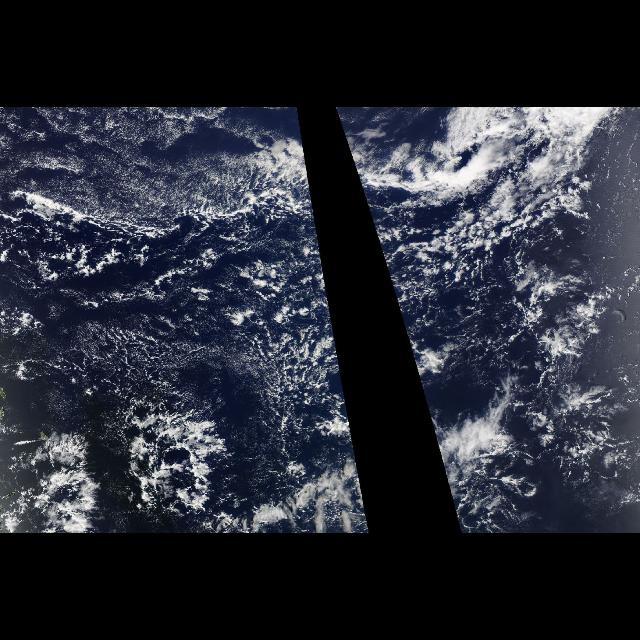Fish: (112, 397, 246, 533), (6, 426, 110, 534)
Gravel: (14, 207, 336, 455), (367, 208, 539, 336)
Sugar: (2, 110, 298, 222), (52, 336, 272, 394)
